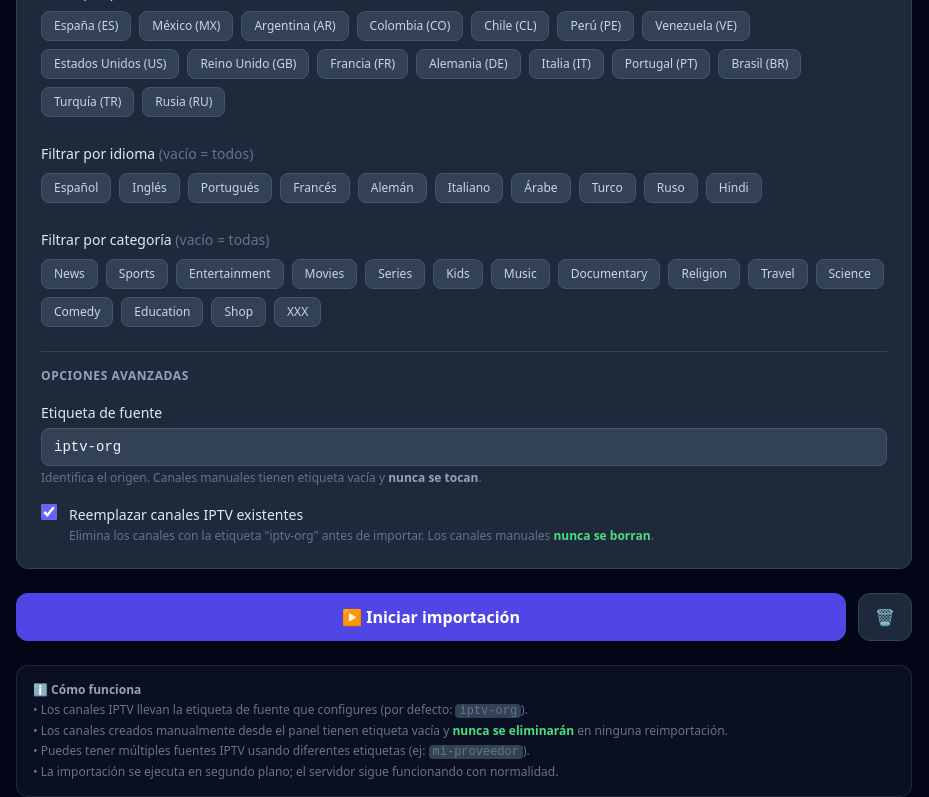
Test: IPTVPage › cancels confirm dialog when clicking Cancelar
The width and height of the screenshot is (929, 797).
(page scrolled)
Click the button "▶ Iniciar importación" at (431, 617), box [16,593,846,641]
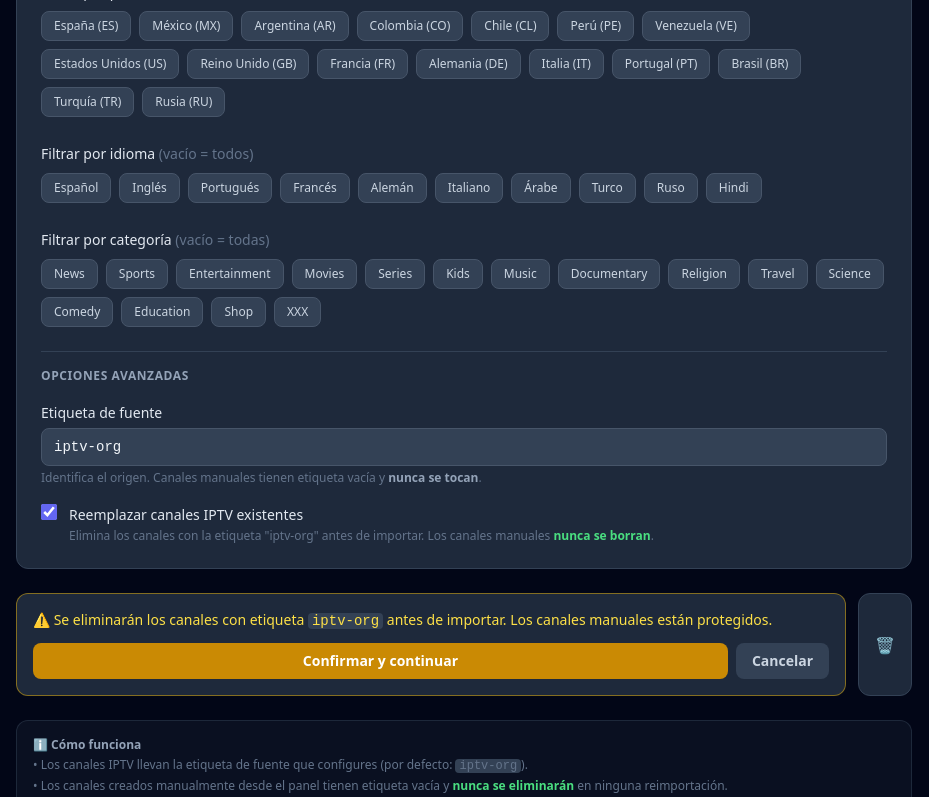
Now the button "Confirmar y continuar" is shown, box [33,643,728,679]
Click the button "Cancelar" at (782, 661), box [736,643,829,679]
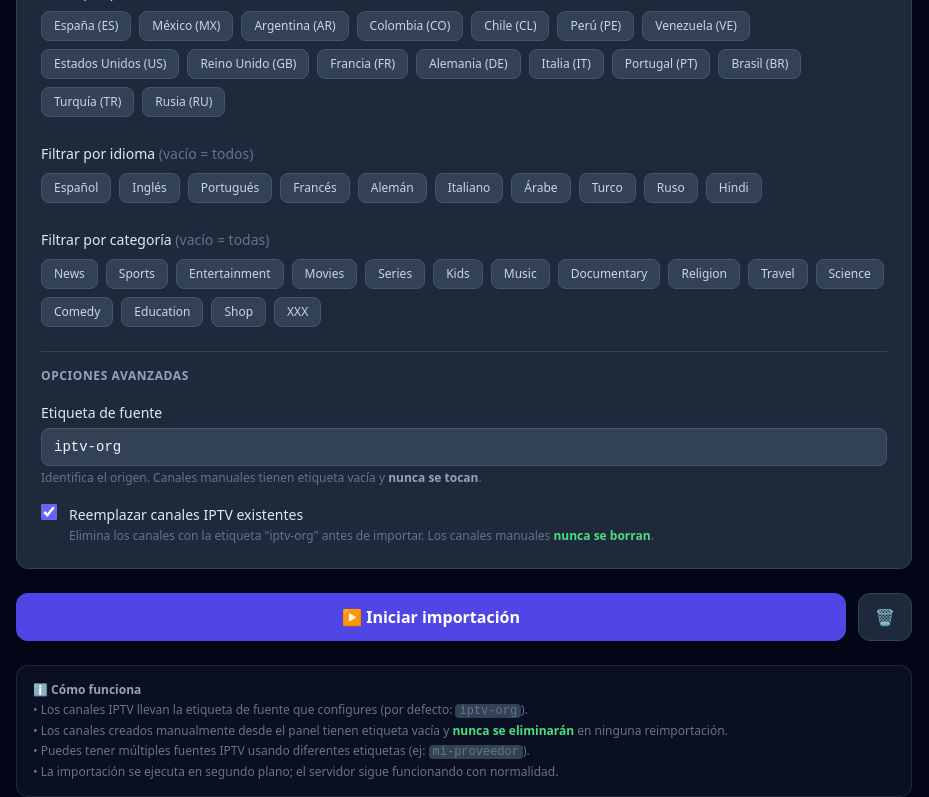
Now the button "Confirmar y continuar" is gone
